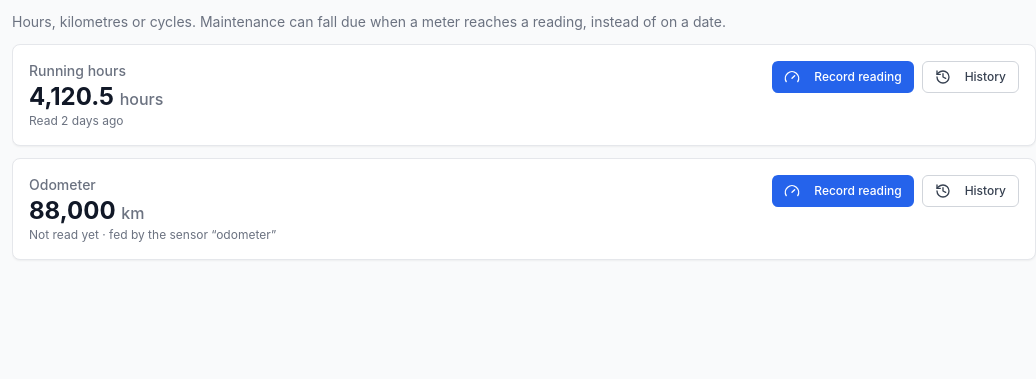
Test case: the meters of an asset › shows the history of a meter
Expected: the text "Running hours" is shown, [29,62,126,79]
Step 1. Click the button "History" in the row of "Running hours" → click(970, 77), box [922,61,1019,93]
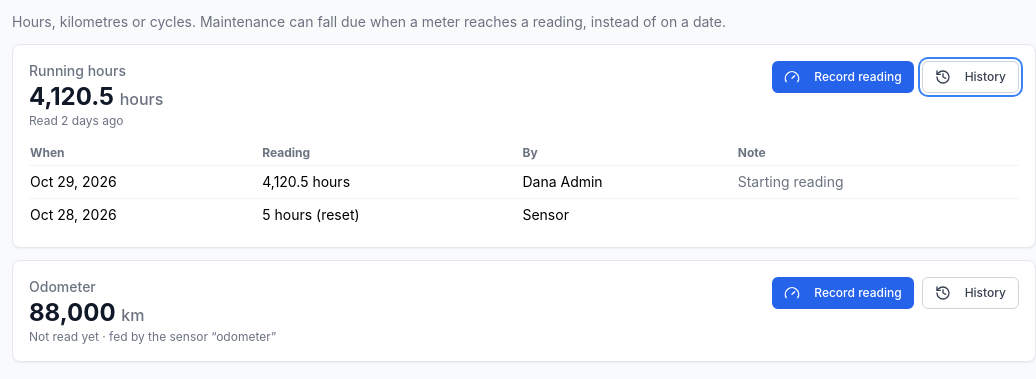
Expected: the text "Dana Admin" is shown, [522,166,737,198]
Expected: the text "4,120.5 hours" is shown, [261,166,521,198]
Expected: the text "5 hours (reset)" is shown, [261,198,521,231]
